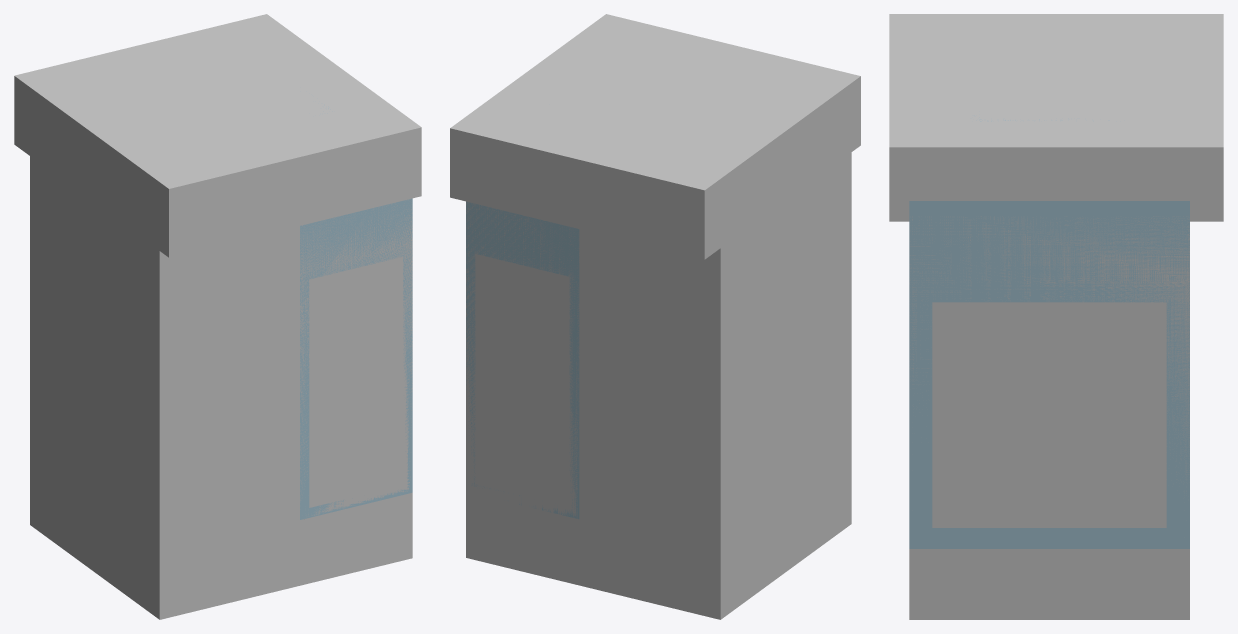
File: SM_Train_Elevator_a.fbx
The picture shows the model from 3 angles, left to right: view 1: azimuth 30°, elevation 25°; view 2: azimuth 150°, elevation 25°; view 3: azimuth 270°, elevation 25°; orthographic projection. The views are drawn at different scales.
Parts seen in each view (by area): view 1: SM_Train_Elevator_a_ConvexHulls, SM_Train_Elevator_a; view 2: SM_Train_Elevator_a_ConvexHulls, SM_Train_Elevator_a; view 3: SM_Train_Elevator_a_ConvexHulls, SM_Train_Elevator_a.
Part boxes in pixels (left/top/right/bottom): SM_Train_Elevator_a_ConvexHulls: left=14, top=14, right=421, bottom=619; SM_Train_Elevator_a: left=300, top=104, right=412, bottom=519; SM_Train_Elevator_a_ConvexHulls: left=450, top=14, right=860, bottom=619; SM_Train_Elevator_a: left=466, top=201, right=579, bottom=519; SM_Train_Elevator_a_ConvexHulls: left=889, top=14, right=1223, bottom=619; SM_Train_Elevator_a: left=909, top=115, right=1189, bottom=548.
Size of the model in its own units: 189 by 200 by 312.
